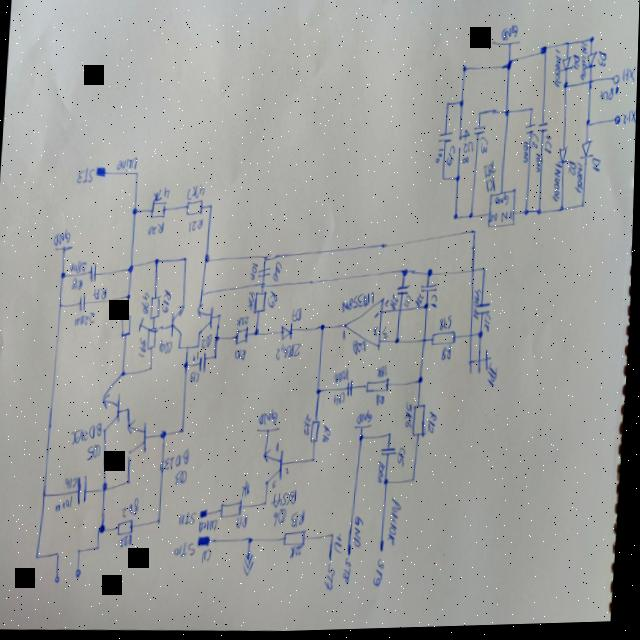capacitor: (78, 473, 93, 507), (537, 124, 554, 146), (420, 283, 441, 299), (478, 304, 497, 320), (89, 261, 101, 286), (395, 286, 412, 300), (383, 448, 399, 461), (200, 355, 209, 377), (439, 135, 454, 148), (260, 269, 273, 283), (349, 380, 357, 401), (474, 128, 487, 140), (524, 127, 537, 139), (80, 295, 89, 311)
crossover: (587, 83, 594, 91), (399, 308, 405, 317), (472, 270, 478, 278), (470, 335, 476, 343), (262, 284, 268, 292), (424, 340, 429, 348)
diode: (580, 143, 595, 165), (283, 322, 296, 343), (557, 150, 571, 168), (560, 58, 574, 76), (586, 54, 598, 74)
ground: (491, 41, 521, 52), (259, 426, 283, 436), (57, 244, 75, 255), (357, 426, 377, 434)
junction: (505, 63, 514, 75), (540, 48, 549, 60), (101, 524, 109, 536), (162, 431, 169, 443), (402, 271, 410, 281), (129, 265, 136, 275), (62, 272, 69, 282), (105, 484, 112, 494), (206, 255, 212, 266), (264, 256, 272, 264), (133, 208, 140, 217), (462, 67, 469, 76), (127, 293, 134, 302), (424, 304, 431, 313), (322, 325, 328, 335), (480, 334, 486, 344), (397, 340, 403, 350), (361, 436, 367, 446), (419, 378, 425, 388), (429, 271, 435, 281), (37, 555, 44, 563), (201, 292, 208, 300), (318, 390, 324, 399), (156, 258, 162, 267), (525, 212, 531, 221), (538, 212, 544, 221), (470, 214, 476, 223), (386, 480, 392, 489), (459, 103, 465, 111), (586, 124, 592, 132), (563, 86, 569, 94), (456, 178, 462, 186), (256, 330, 262, 338), (58, 551, 64, 559), (590, 40, 596, 48), (505, 112, 511, 120), (454, 216, 460, 224), (251, 538, 257, 546), (178, 346, 184, 354), (442, 177, 447, 186), (160, 519, 165, 527), (124, 371, 129, 379), (217, 337, 222, 345), (473, 231, 478, 239), (45, 492, 50, 500), (183, 429, 188, 436), (565, 45, 570, 52), (60, 303, 65, 310), (561, 209, 566, 216), (185, 257, 189, 265), (484, 269, 488, 277), (220, 313, 224, 321), (414, 480, 419, 486), (81, 549, 85, 556), (446, 104, 450, 111), (267, 502, 271, 509), (531, 110, 535, 117), (100, 546, 104, 553), (391, 435, 395, 442), (216, 356, 220, 363), (130, 480, 134, 487), (188, 347, 192, 354), (333, 534, 337, 541), (151, 367, 155, 373), (582, 208, 586, 214), (315, 459, 319, 465), (210, 205, 214, 211), (479, 114, 483, 120), (129, 408, 133, 414), (136, 172, 140, 178), (190, 363, 191, 372)
resistor: (139, 318, 161, 356), (413, 404, 431, 443), (367, 379, 394, 397), (286, 532, 309, 552), (222, 502, 246, 521), (433, 333, 459, 350), (119, 518, 139, 539), (187, 199, 206, 220), (255, 291, 269, 317), (151, 202, 169, 221), (313, 422, 325, 447), (236, 329, 252, 347), (123, 316, 135, 340), (152, 298, 163, 320)
source: (245, 554, 258, 578)
switch: (469, 352, 495, 378)
terminal: (201, 537, 214, 550), (97, 166, 108, 180), (202, 510, 212, 522), (613, 77, 621, 89), (58, 574, 64, 586), (615, 118, 621, 130), (79, 569, 86, 579), (381, 549, 388, 557), (330, 558, 336, 566), (349, 553, 355, 560), (459, 151, 462, 155), (460, 140, 462, 144)
text: (73, 422, 107, 448), (162, 448, 193, 475), (343, 294, 379, 315), (390, 501, 405, 550), (274, 491, 301, 512), (277, 344, 305, 364), (483, 162, 499, 197), (122, 497, 145, 520), (552, 167, 564, 209), (261, 409, 282, 430), (355, 519, 367, 553), (117, 157, 139, 175), (176, 543, 199, 560), (75, 313, 98, 330), (77, 167, 97, 186), (54, 229, 74, 248), (599, 89, 621, 106), (554, 52, 563, 93), (188, 185, 207, 204), (291, 512, 309, 532), (58, 495, 76, 514), (501, 27, 519, 46), (356, 412, 376, 429), (581, 46, 590, 83), (576, 166, 586, 199), (328, 568, 340, 595), (335, 368, 352, 387), (181, 512, 200, 529), (153, 187, 172, 204), (378, 563, 389, 591), (489, 364, 500, 392), (474, 291, 483, 325), (621, 111, 637, 130), (273, 509, 290, 526), (621, 71, 638, 88), (429, 415, 441, 439), (164, 291, 175, 317), (406, 406, 416, 434), (446, 147, 457, 172), (89, 445, 104, 463), (203, 521, 221, 536), (71, 261, 89, 276), (440, 318, 455, 335), (149, 224, 166, 239), (143, 290, 152, 317), (269, 291, 280, 313), (190, 219, 205, 235), (379, 463, 389, 487), (177, 470, 191, 487), (347, 561, 356, 587), (323, 425, 334, 446), (400, 447, 409, 472), (535, 153, 544, 178), (121, 534, 136, 549), (140, 338, 150, 360), (479, 141, 490, 161), (592, 159, 603, 179), (337, 535, 347, 557), (335, 393, 349, 408), (354, 342, 368, 357), (95, 288, 109, 303), (597, 54, 608, 73), (523, 143, 531, 169), (251, 264, 261, 284), (275, 263, 284, 285), (485, 315, 494, 337), (162, 342, 176, 356), (305, 415, 313, 439), (443, 349, 455, 365), (244, 482, 254, 501), (249, 292, 258, 313), (293, 309, 304, 326), (73, 277, 85, 292), (205, 550, 216, 566), (572, 57, 581, 76), (293, 548, 306, 561), (239, 517, 251, 531), (569, 163, 577, 184), (68, 477, 80, 491), (436, 152, 446, 168), (496, 199, 509, 211), (532, 138, 541, 154), (237, 351, 249, 363), (464, 143, 475, 156), (502, 213, 513, 226), (204, 337, 214, 351), (380, 367, 390, 381), (238, 317, 250, 328), (191, 373, 202, 385), (378, 396, 388, 409), (545, 145, 554, 159), (462, 132, 471, 145), (393, 297, 400, 313), (405, 298, 414, 310), (384, 328, 391, 342), (417, 297, 425, 309), (462, 158, 471, 168), (432, 301, 439, 313), (374, 328, 381, 340), (490, 216, 498, 225), (278, 442, 282, 456), (342, 334, 348, 343), (275, 481, 280, 491), (287, 469, 292, 478), (376, 314, 380, 323), (386, 301, 390, 309)
transistor: (128, 417, 152, 460), (103, 392, 125, 434), (264, 449, 287, 489), (200, 308, 218, 341), (171, 308, 187, 340)
